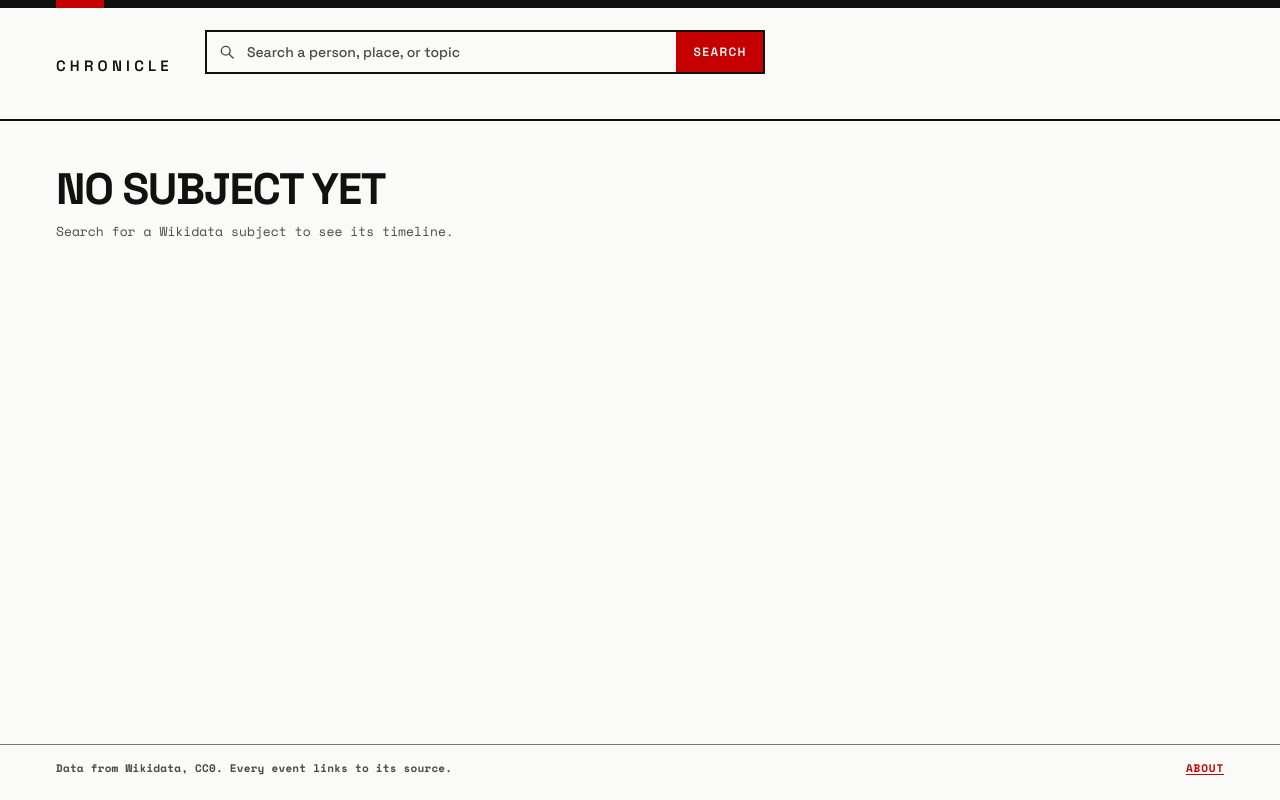
it: App › shows the picked subject and does not load a timeline
Type "Marie Cu" into the dropdown named "Subject".
click(455, 52); type("Marie Cu")  # box [235,42,676,61]
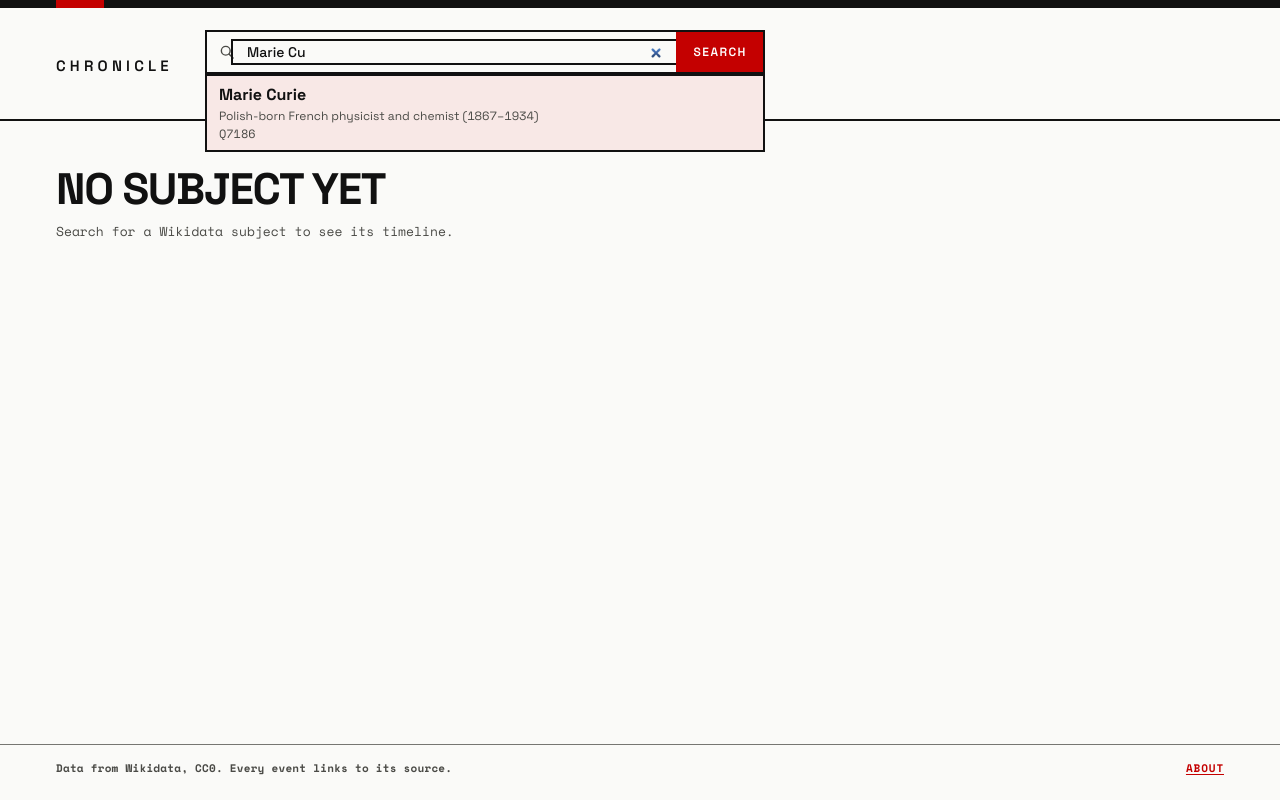
Result: the option "Marie Curie" is shown at [207,76,763,150]
Press Enter
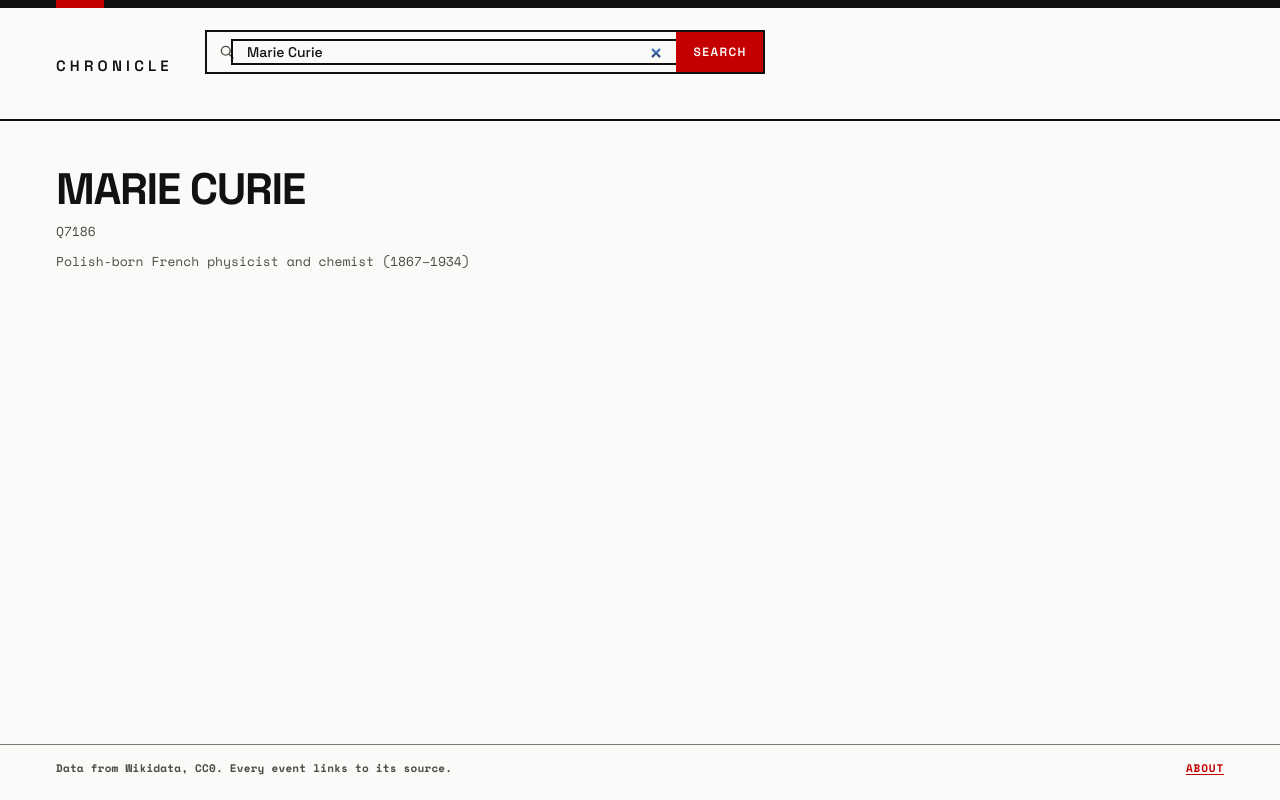
Result: the heading "Marie Curie" is shown at [56,161,305,217]
Result: the text "Q7186" is shown at [56,221,96,241]
Result: the text "Polish-born French physicist and chemist (1867–1934)" is shown at [56,250,470,270]
